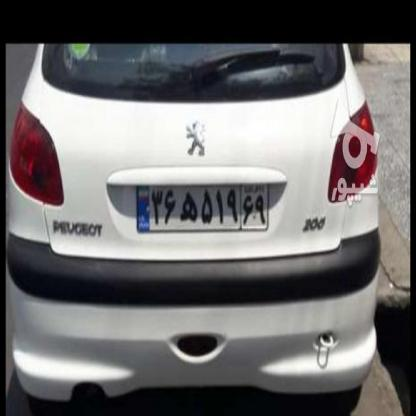licence: (131, 179, 271, 232)
